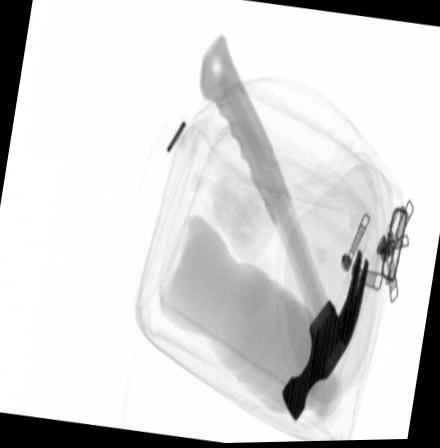Hammer: (197, 34, 369, 423)
